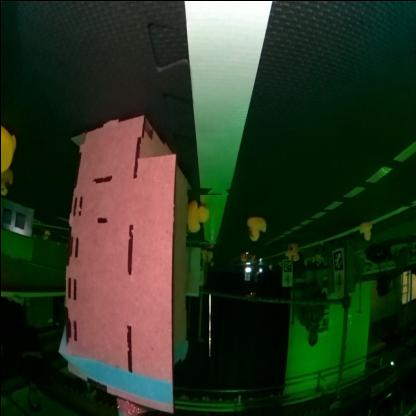Duckie: (184, 200, 206, 232), (0, 124, 14, 172), (245, 217, 265, 241), (1, 170, 11, 196), (356, 222, 370, 240), (286, 242, 296, 257), (239, 253, 245, 261), (248, 254, 254, 262)
Intersection sign: (334, 272, 341, 291), (283, 273, 290, 285)
QR code: (332, 250, 341, 271), (282, 260, 290, 272)
